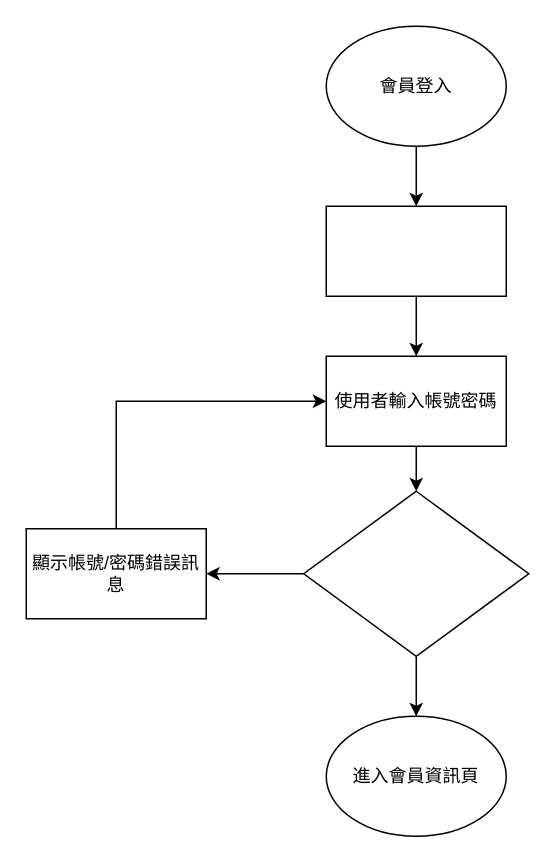
Image size: 555x863. Some labels were removed from this diagram. Each missing label, with the centre of its shape:
帳號密碼是否輸入正確: (415,573)
顯示登入頁: (415,250)
